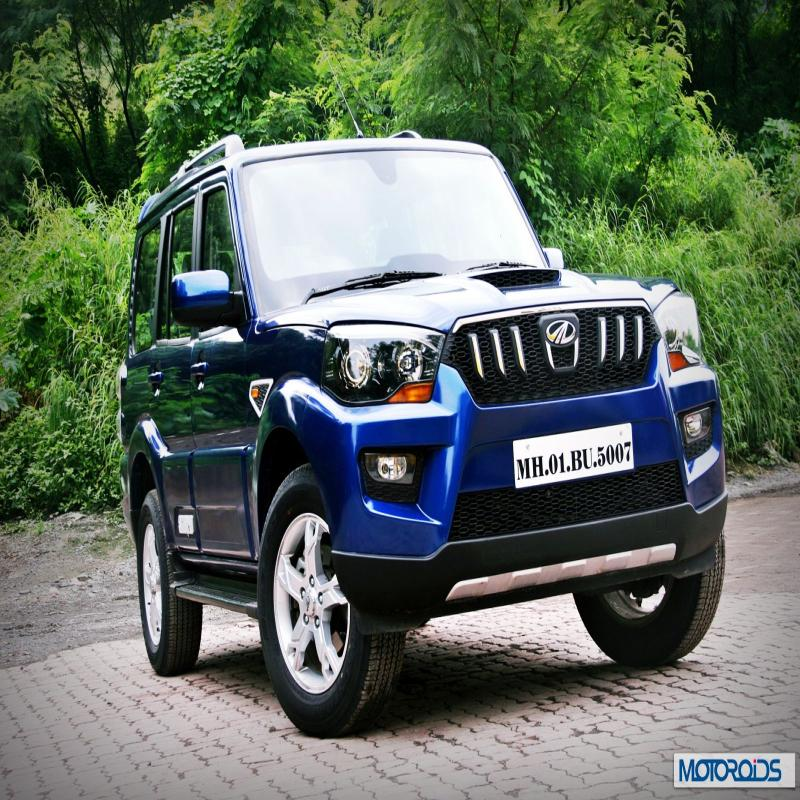car: (130, 113, 759, 697)
